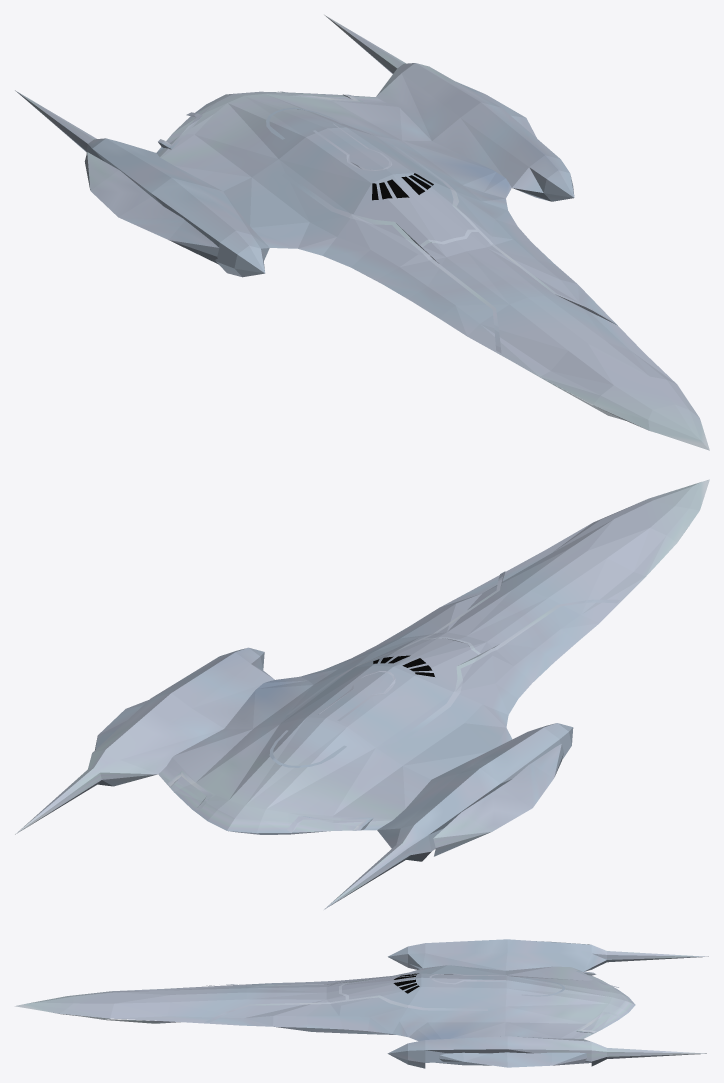
The model's file is Starship.glb.
The picture shows the model from 3 angles, top to bottom: view 1: azimuth 30°, elevation 25°; view 2: azimuth 150°, elevation 25°; view 3: azimuth 270°, elevation 25°; orthographic projection. The views are drawn at different scales.
Visible parts, largest first — view 1: Ship_1; view 2: Ship_1; view 3: Ship_1.
Part boxes in pixels (x1,y1,x2,y2): Ship_1: (15, 15, 709, 450); Ship_1: (15, 479, 709, 909); Ship_1: (14, 939, 708, 1068).
Bounding box in the file's own units: 78.35 × 11.34 × 180.
Materials: 1 (1 with a texture image).
